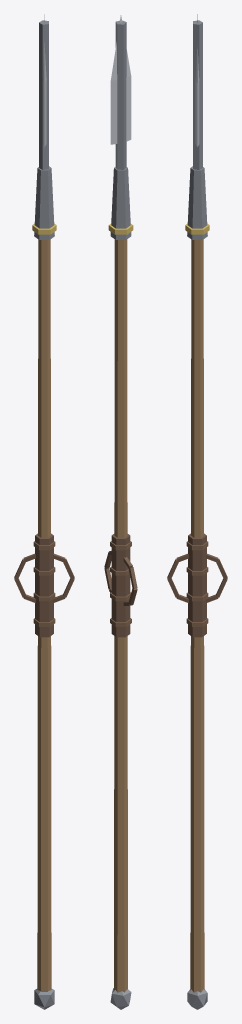
The model's file is Weapon_Javelin.glb.
3 views of the same model, side by side, from view 1: azimuth 90°, elevation 25°; view 2: azimuth 210°, elevation 25°; view 3: azimuth 270°, elevation 25° (orthographic).
Parts seen in each view (by area): view 1: Javelin; view 2: Javelin; view 3: Javelin.
Boxes of the visible parts, x1,y1,x2,y2 form: Javelin: (14,14,74,1009); Javelin: (104,15,137,1009); Javelin: (167,14,227,1009).
Bounding box in the file's own units: 0.05 × 2.33 × 0.1274.
